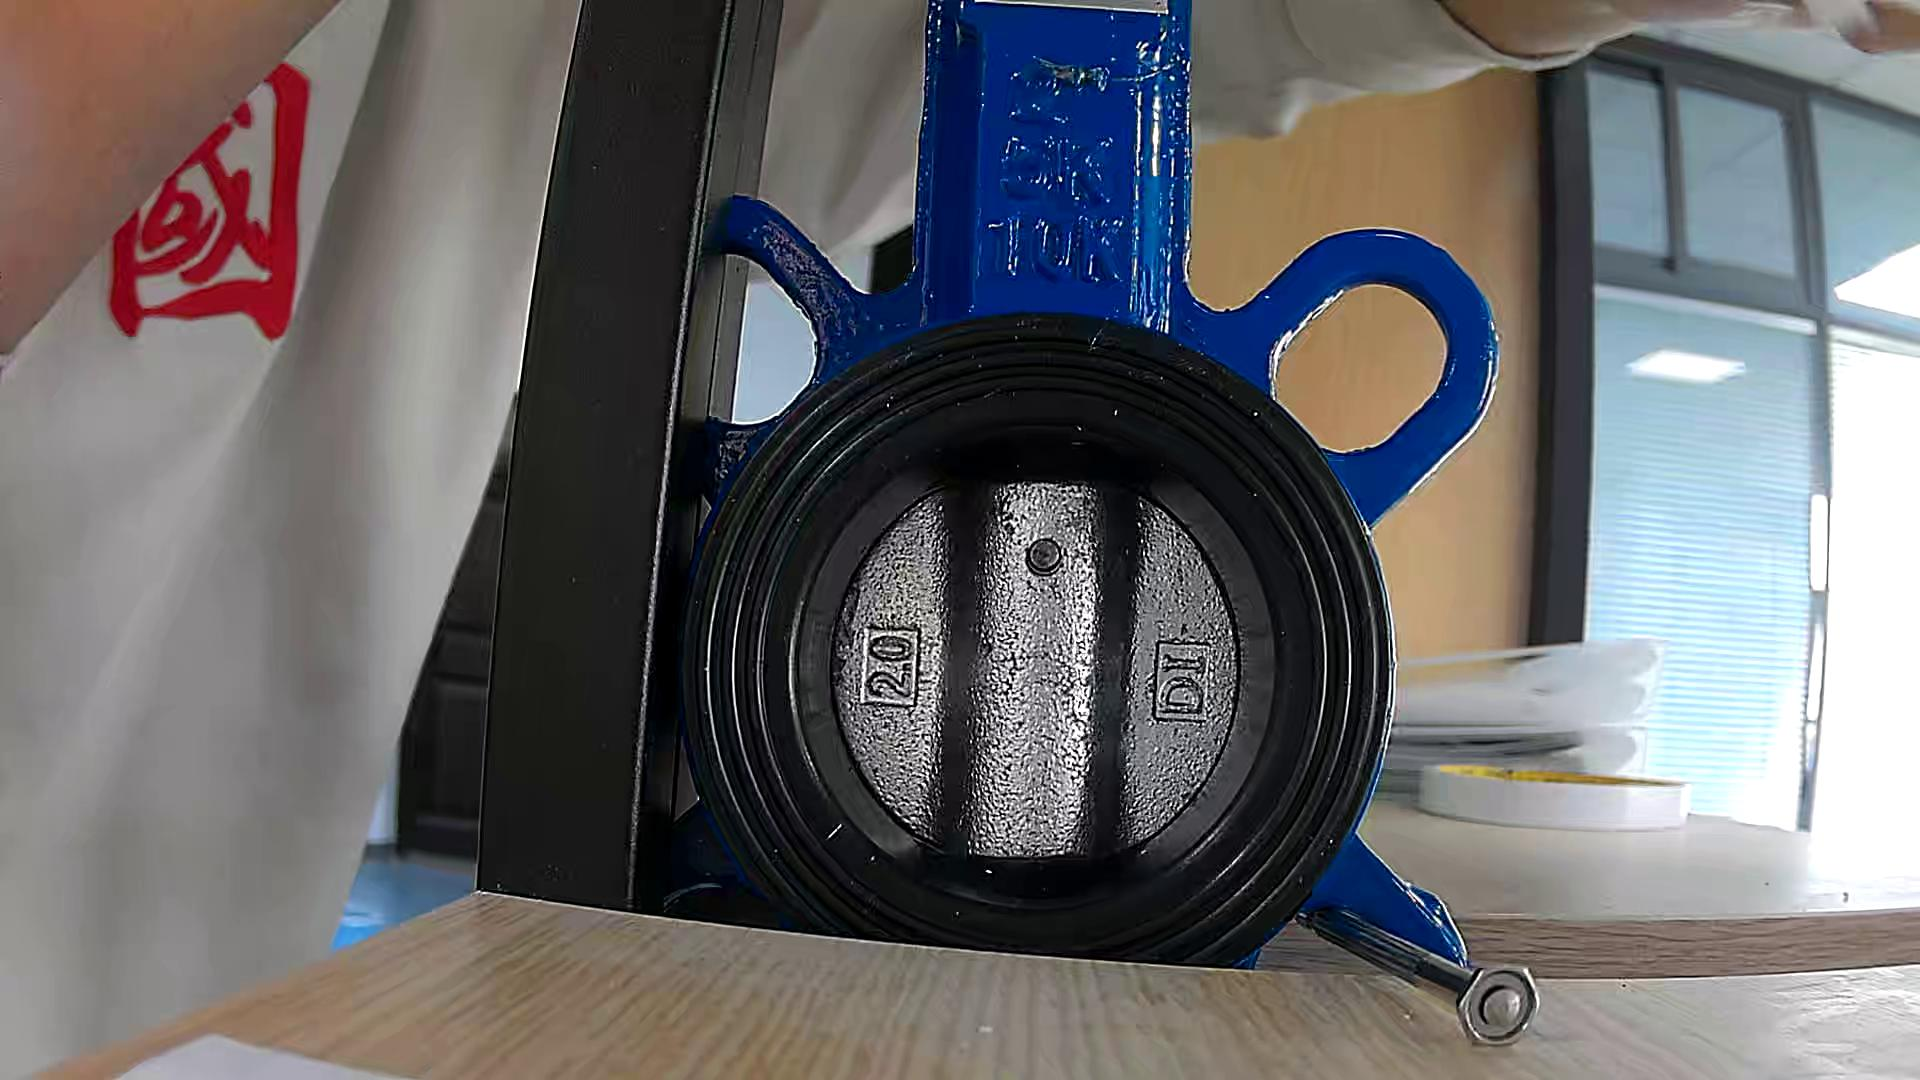valve: (832, 480, 1237, 858)
